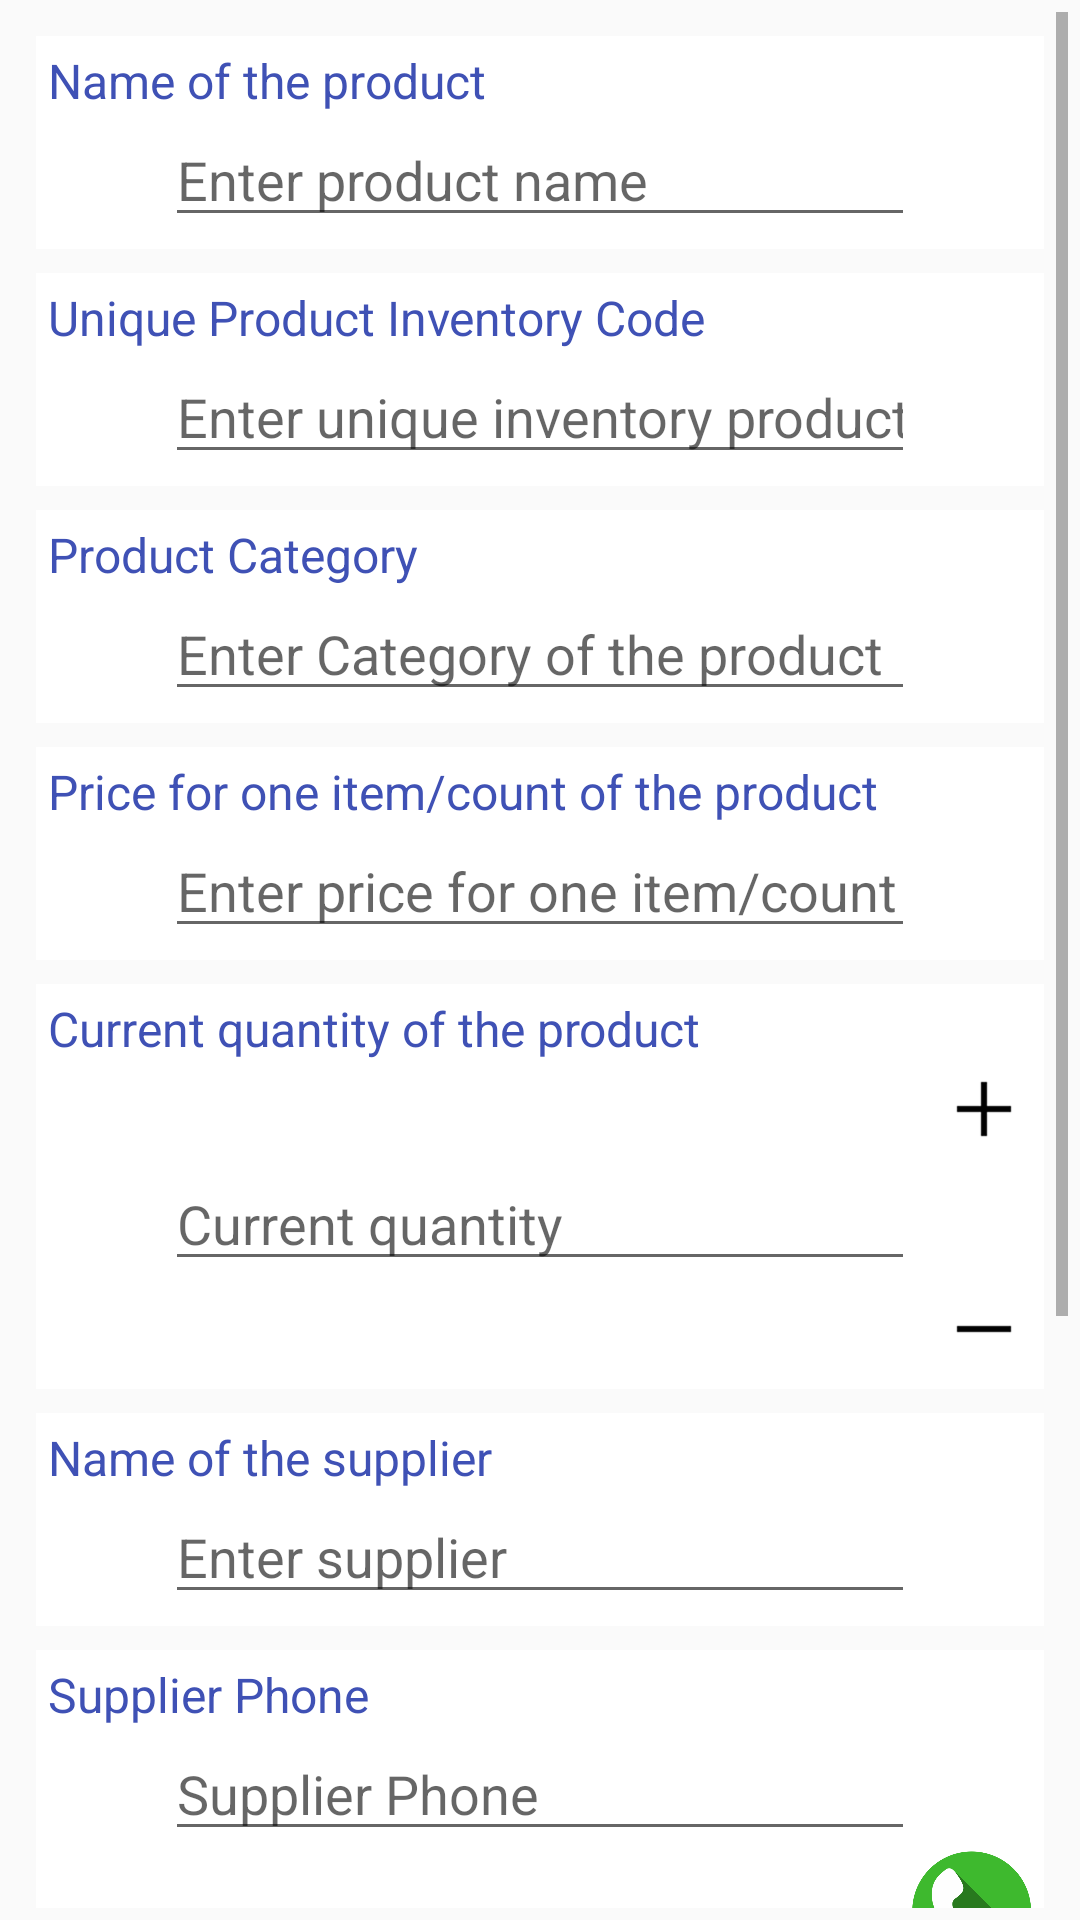

Screen size 1080 × 1920. Icon name, then its box in pixels as [x1, y1, x2, y2]:
add: [956, 1081, 1012, 1137]
